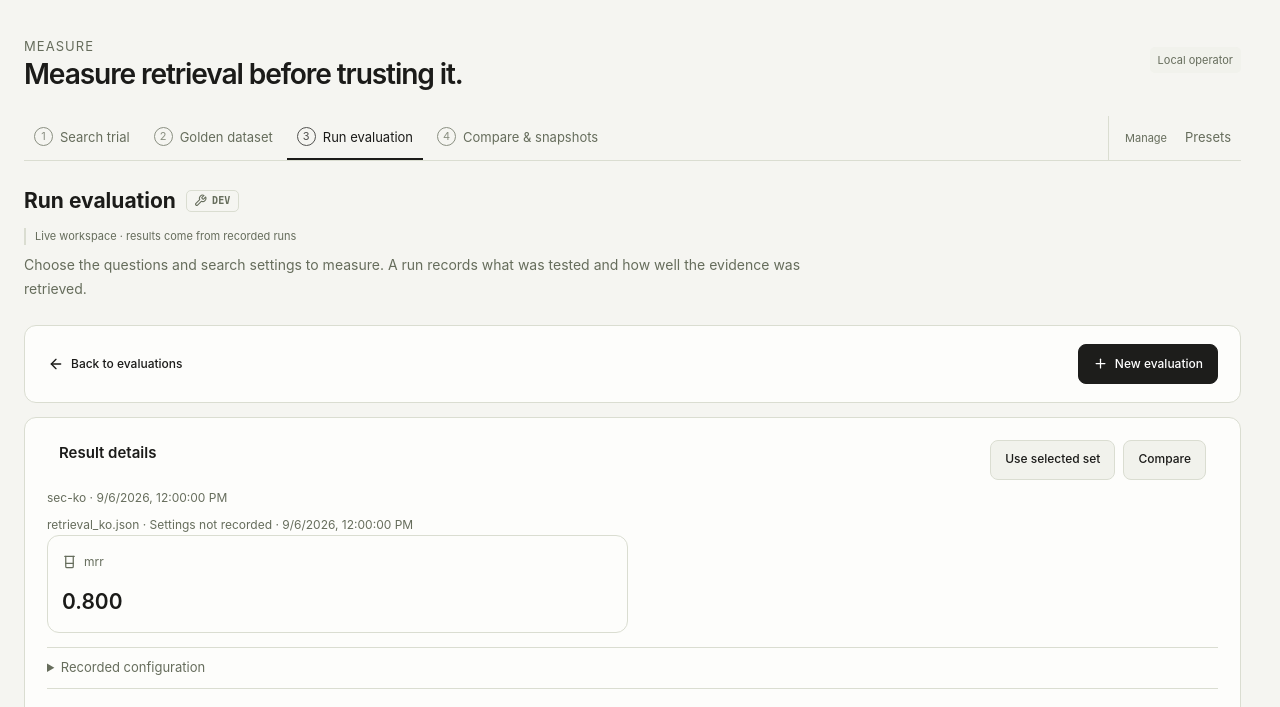
Measure workspace › retains a focused stored result without an empty-list panel and returns to the list
Expected: the heading "Recorded configuration" is shown, [61, 659, 205, 675]
Expected: the heading "Result details" is shown, [59, 442, 156, 465]
Click the button "2 Golden dataset" at (213, 138), box [144, 116, 283, 160]
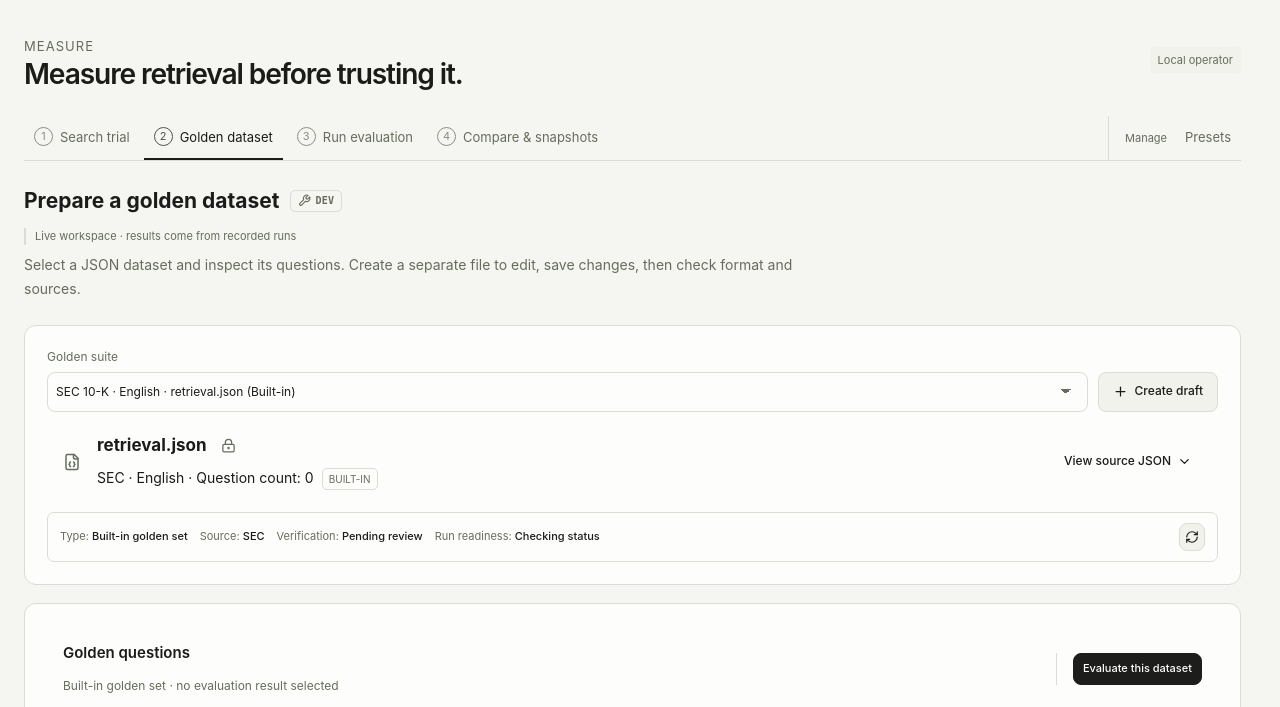
Click the button "3 Run evaluation" at (355, 138), box [287, 116, 423, 160]
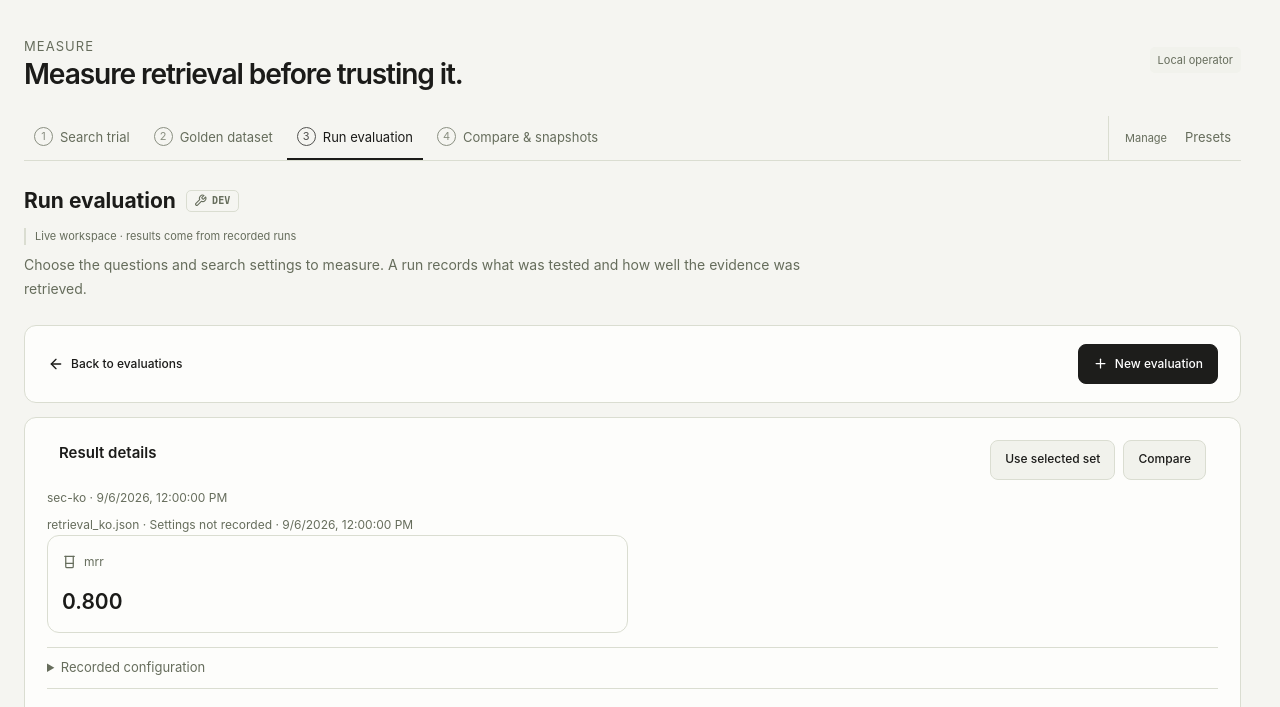
Expected: the text "No evaluations yet" is not shown
Result: the heading "Result details" is shown at [59, 442, 156, 465]
Click the button "Back to evaluations" at (120, 364), box [47, 344, 194, 384]
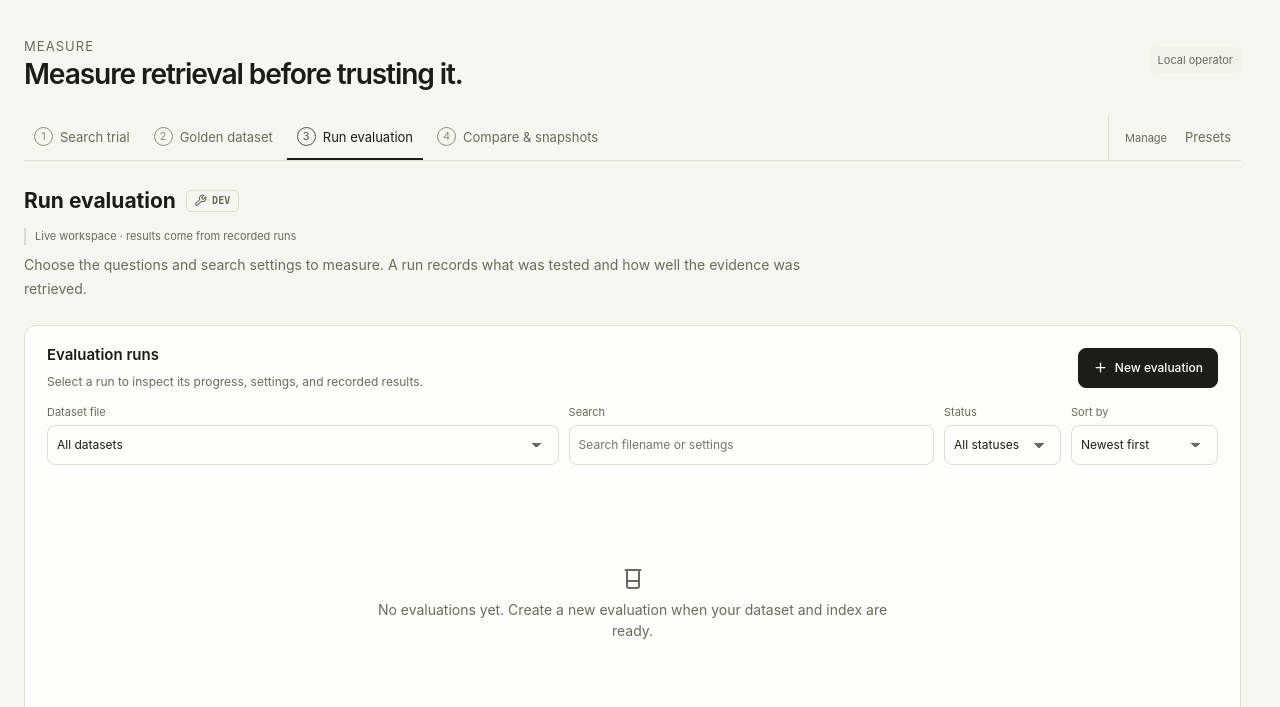
Result: the text "No evaluations yet" is shown at [378, 601, 887, 639]
Result: the heading "Result details" is gone
